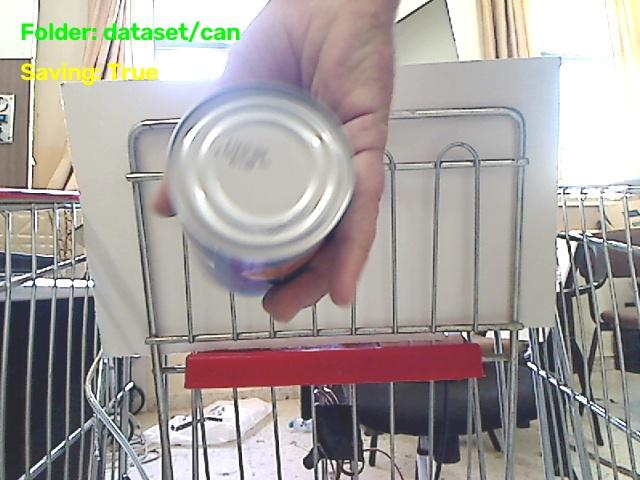can: (167, 85, 354, 294)
